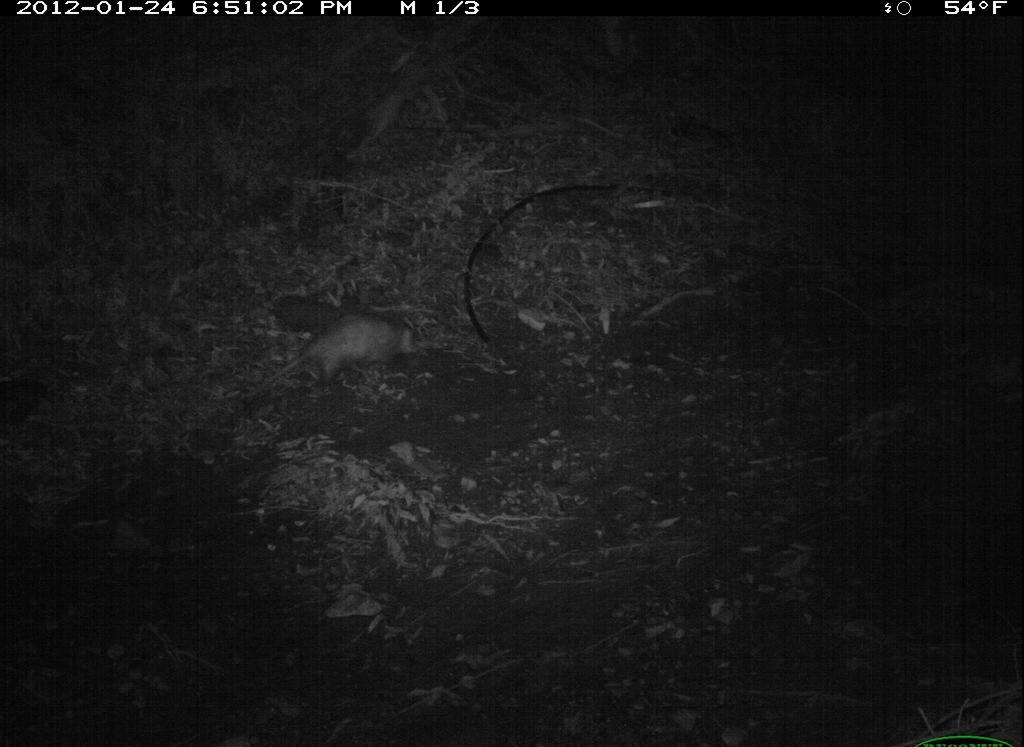opossum: (244, 305, 428, 400)
